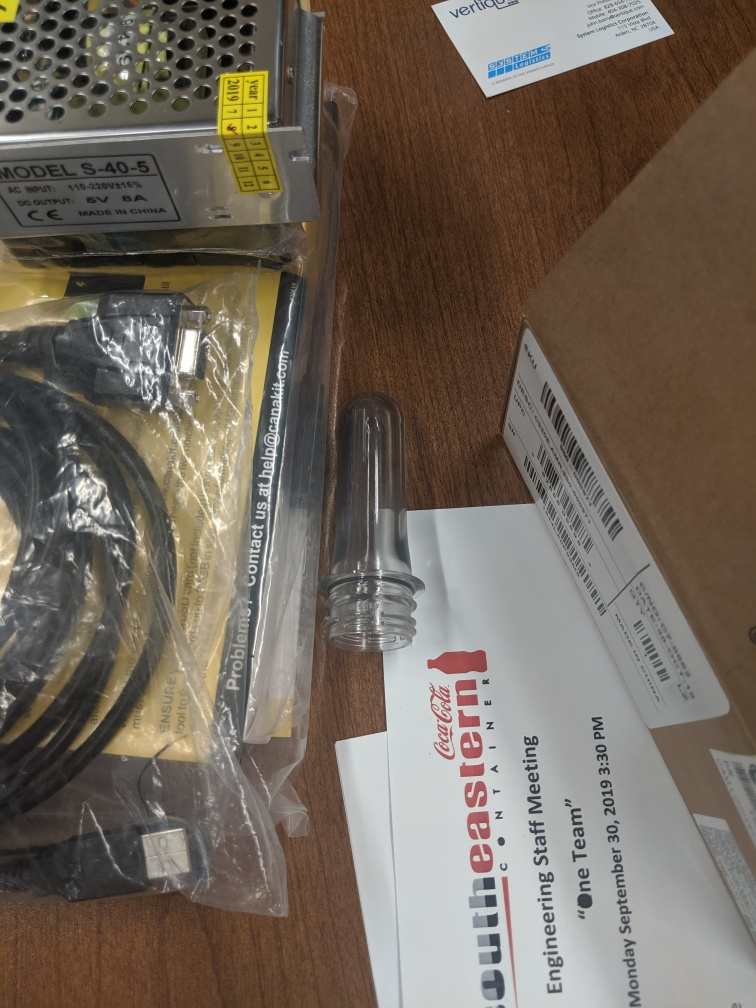preform: (314, 380, 433, 662)
